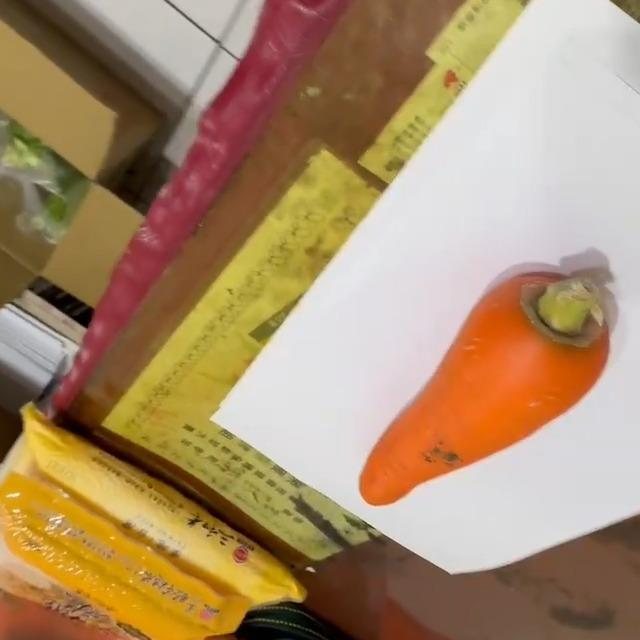carrot: (356, 269, 615, 511)
